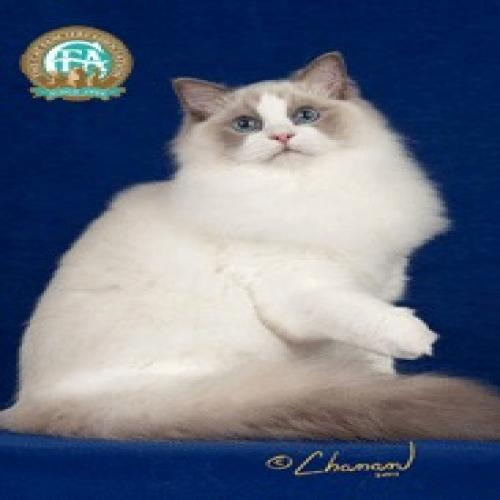ragdoll: (159, 44, 381, 193)
